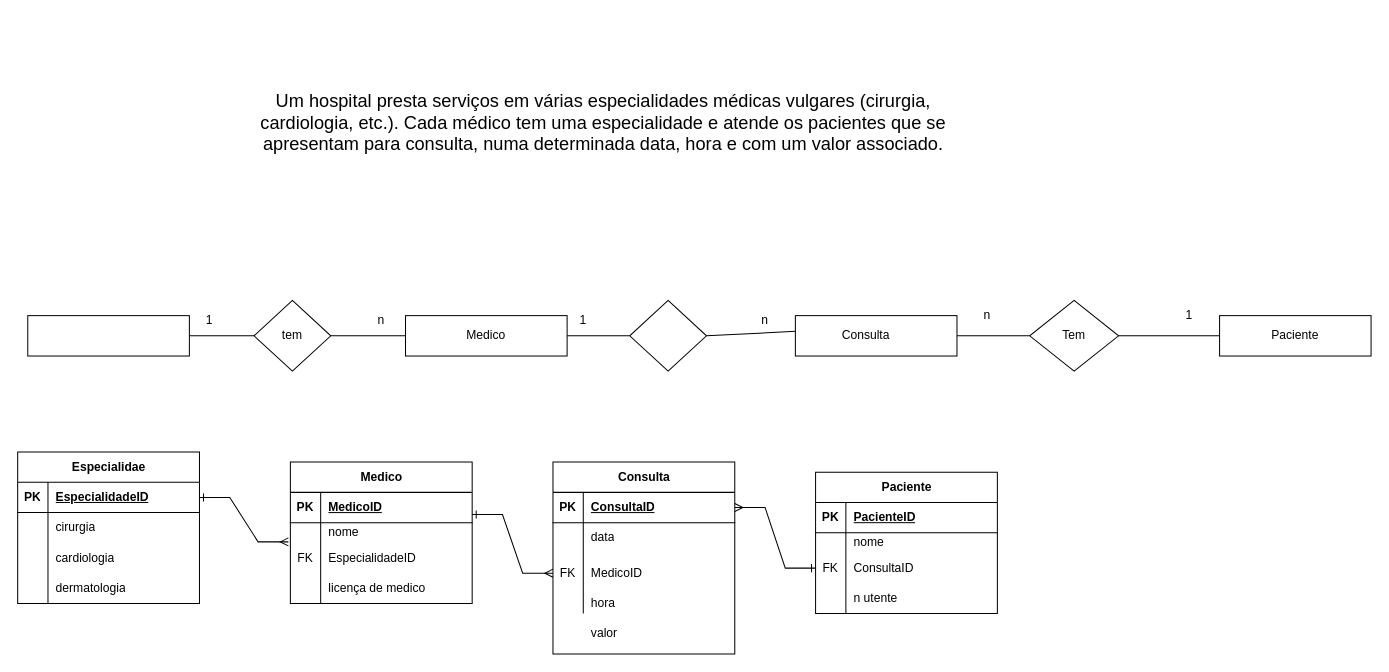
Image size: 1389x672. Some labels were removed from this diagram. Here are the shapes that lost their labels. From the top down, the centre of each, then its label:
At [108,335]: "Especialidade".
At [667,335]: "faz".
